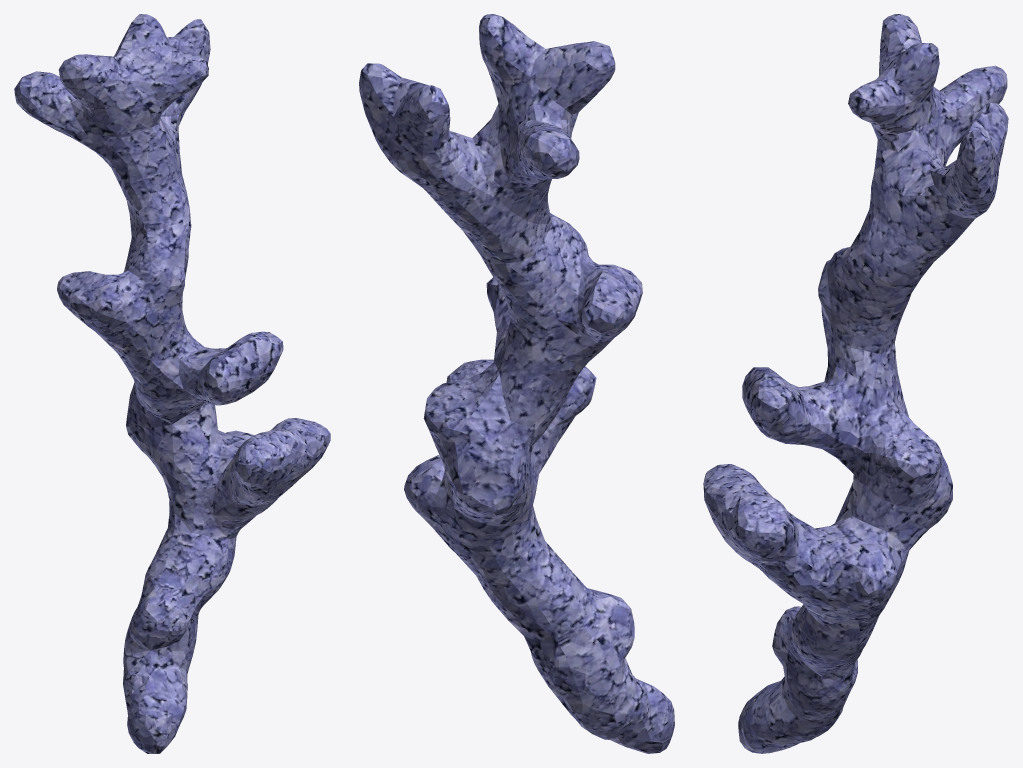
The model's file is coral tree 2 blue.glb.
3 renders of one model, left to right at view 1: azimuth 30°, elevation 25°; view 2: azimuth 150°, elevation 25°; view 3: azimuth 270°, elevation 25°, orthographic. The views are drawn at different scales.
Parts seen in each view (by area): view 1: coral_4_whole_watertight_small; view 2: coral_4_whole_watertight_small; view 3: coral_4_whole_watertight_small.
Part boxes in pixels (box(x1,y1,x2,y2)): coral_4_whole_watertight_small: box(14, 14, 330, 753); coral_4_whole_watertight_small: box(359, 14, 674, 753); coral_4_whole_watertight_small: box(703, 14, 1008, 753).
Size of the model in its own units: 70.01 by 215 by 79.78.
1 material, 1 textured.
